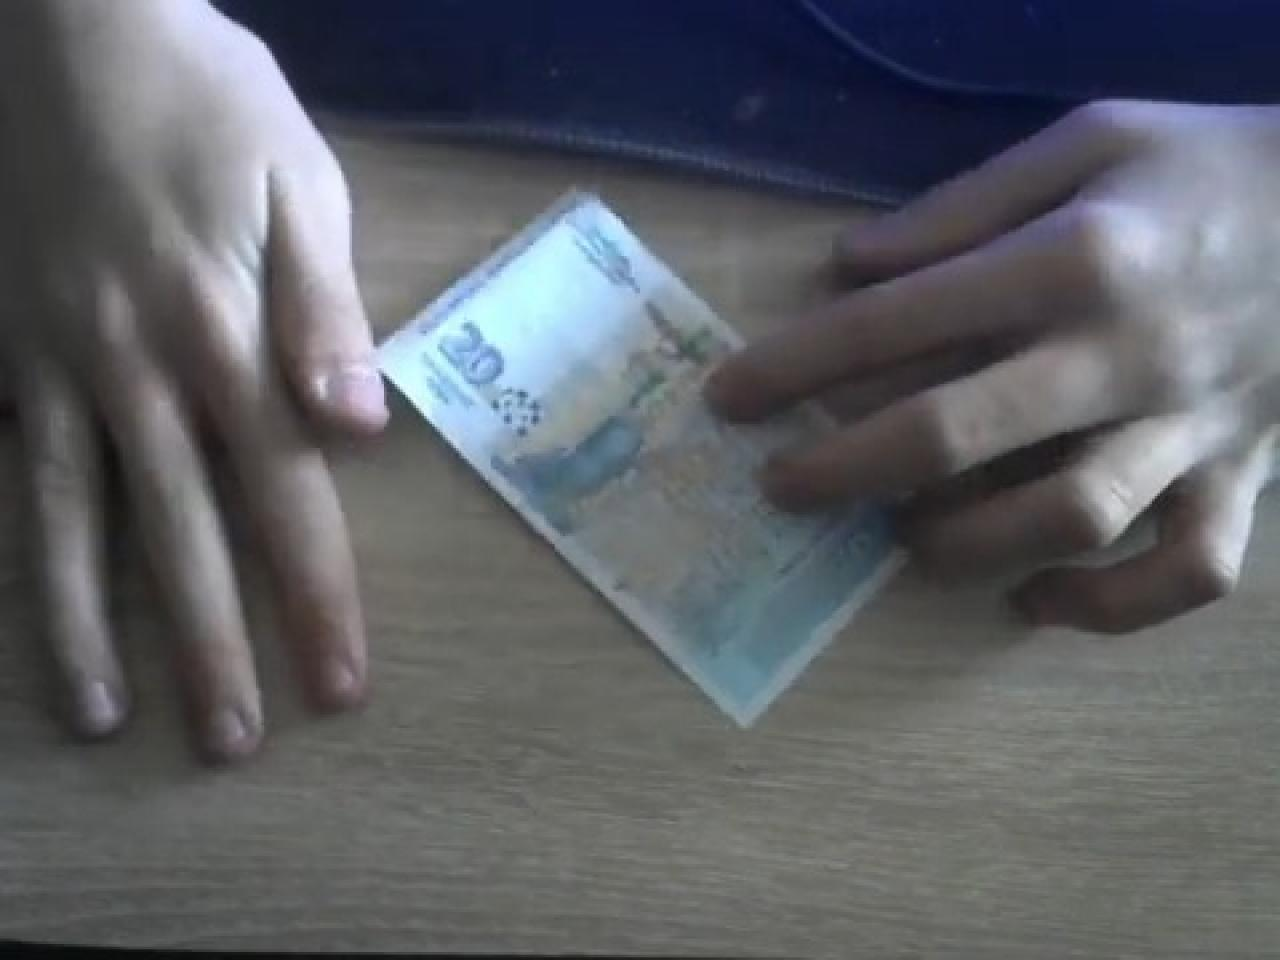20leva: (376, 190, 904, 731)
